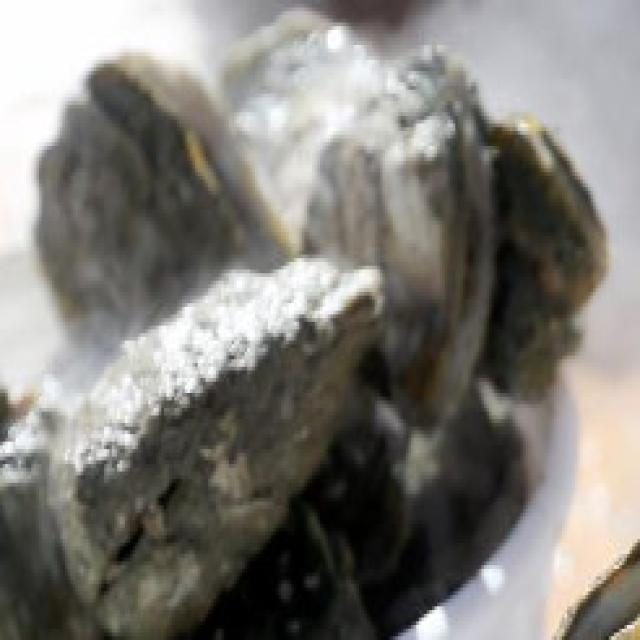Oyster-Closed: (297, 52, 495, 443), (39, 52, 288, 360), (479, 116, 610, 401), (0, 443, 78, 640)
Oyster-Indeterminate: (44, 260, 385, 634), (230, 17, 395, 258)
